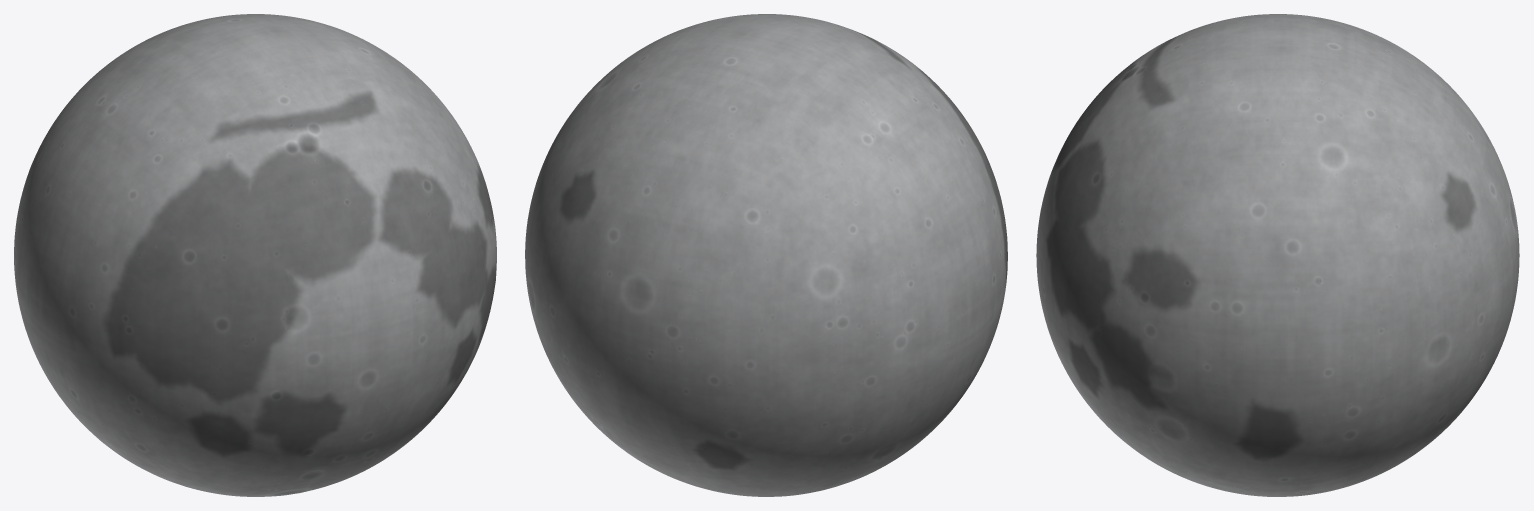
File: earth_moon.glb
3 views of the same model, side by side, from view 1: azimuth 30°, elevation 25°; view 2: azimuth 150°, elevation 25°; view 3: azimuth 270°, elevation 25° (orthographic).
Visible parts, largest first — view 1: model; view 2: model; view 3: model.
Part boxes in pixels (x1,y1,x2,y2): model: [14, 14, 496, 496]; model: [525, 14, 1007, 496]; model: [1036, 14, 1519, 496].
Size of the model in its own units: 0.273 by 0.273 by 0.273.
Materials: 3 (3 with a texture image).
